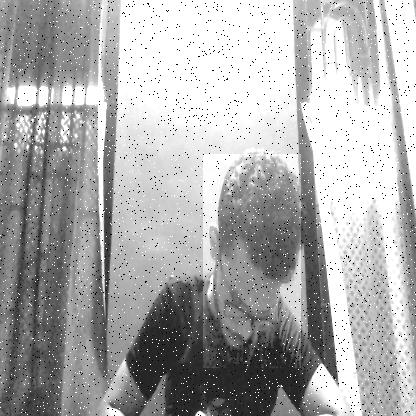Distracted: (204, 154, 302, 368)
